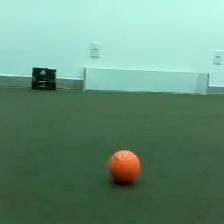ball: (106, 147, 144, 187)
goal: (81, 64, 212, 98)
robot: (30, 64, 58, 92)
